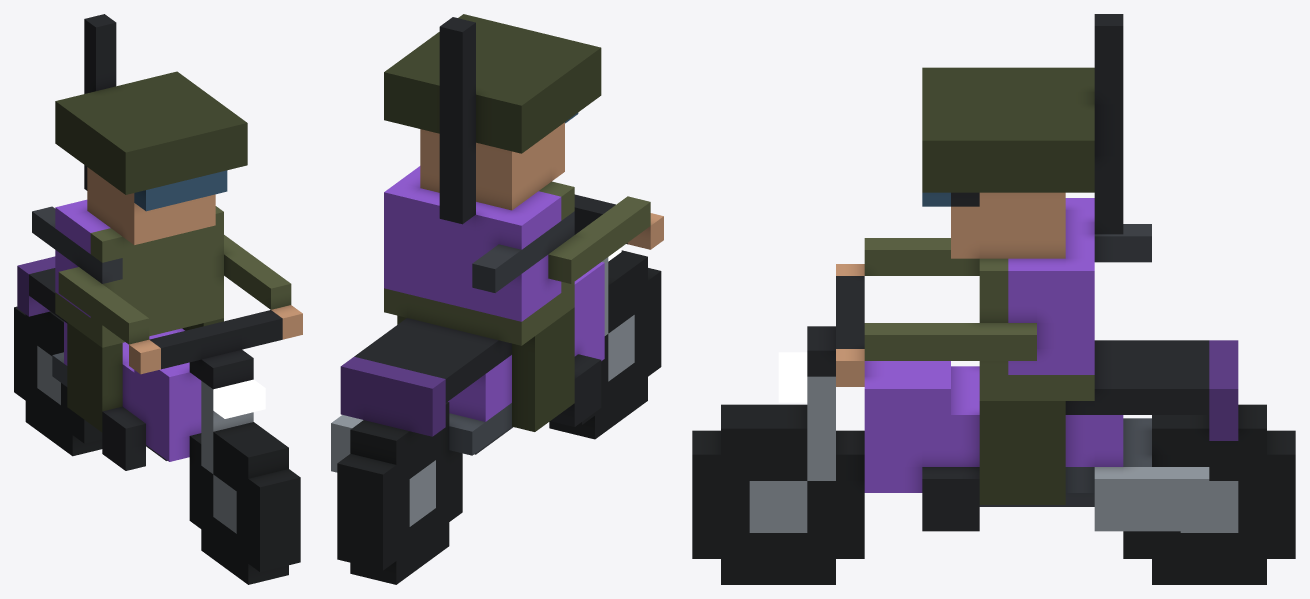
File: cm_scout_4.glb
The picture shows the model from 3 angles, left to right: view 1: azimuth 30°, elevation 25°; view 2: azimuth 150°, elevation 25°; view 3: azimuth 270°, elevation 25°; orthographic projection. The views are drawn at different scales.
Visible parts, largest first — view 1: cm_scout_4_body; view 2: cm_scout_4_body; view 3: cm_scout_4_body.
Boxes of the visible parts, x1=… form: cm_scout_4_body: x1=14, y1=14, x2=302, y2=584; cm_scout_4_body: x1=331, y1=14, x2=663, y2=584; cm_scout_4_body: x1=692, y1=14, x2=1295, y2=584.
Size of the model in its own units: 0.5 by 1.31 by 1.31.
1 material, 1 textured.
